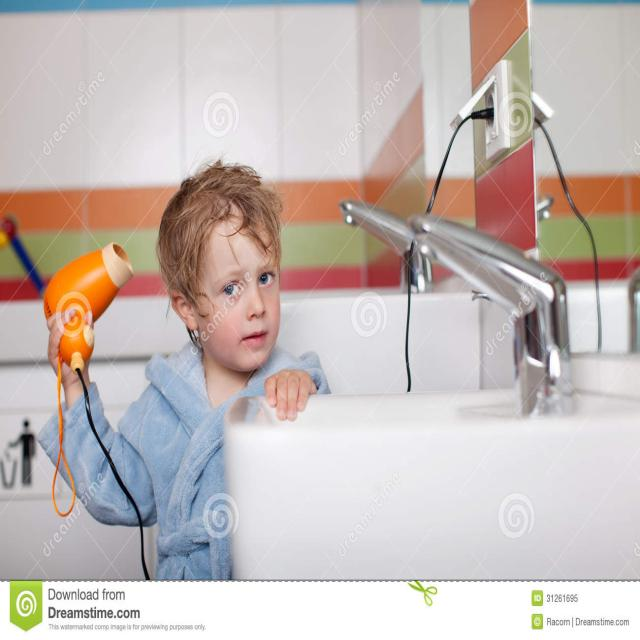dryer: (30, 233, 142, 402)
